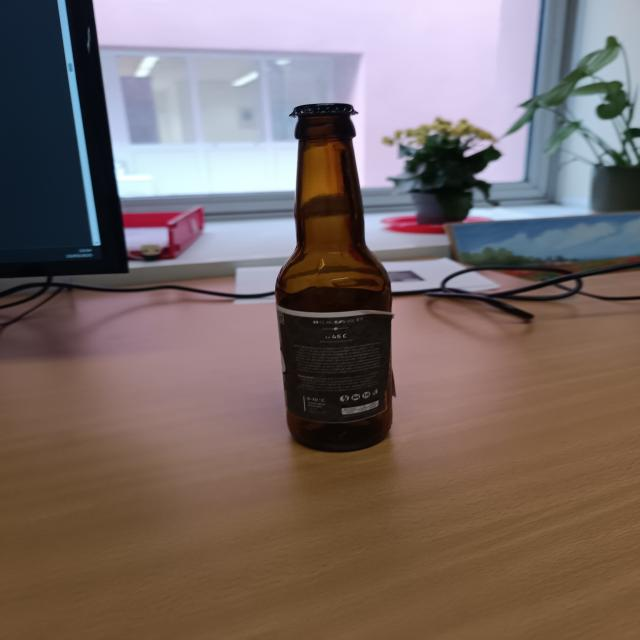Bottle: (272, 101, 396, 452)
Cap: (281, 103, 368, 119)
Label: (284, 307, 390, 420)
